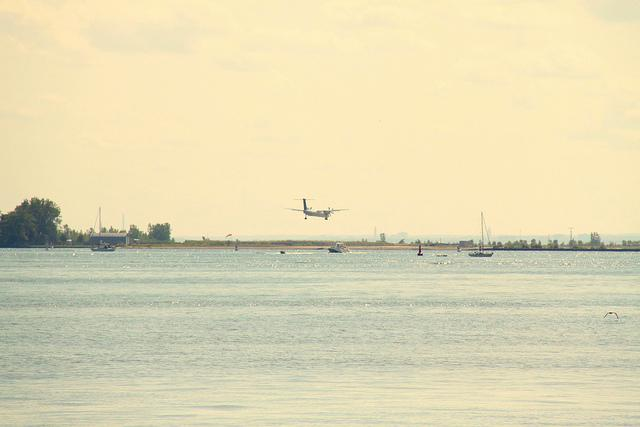airplane: (284, 195, 352, 222)
